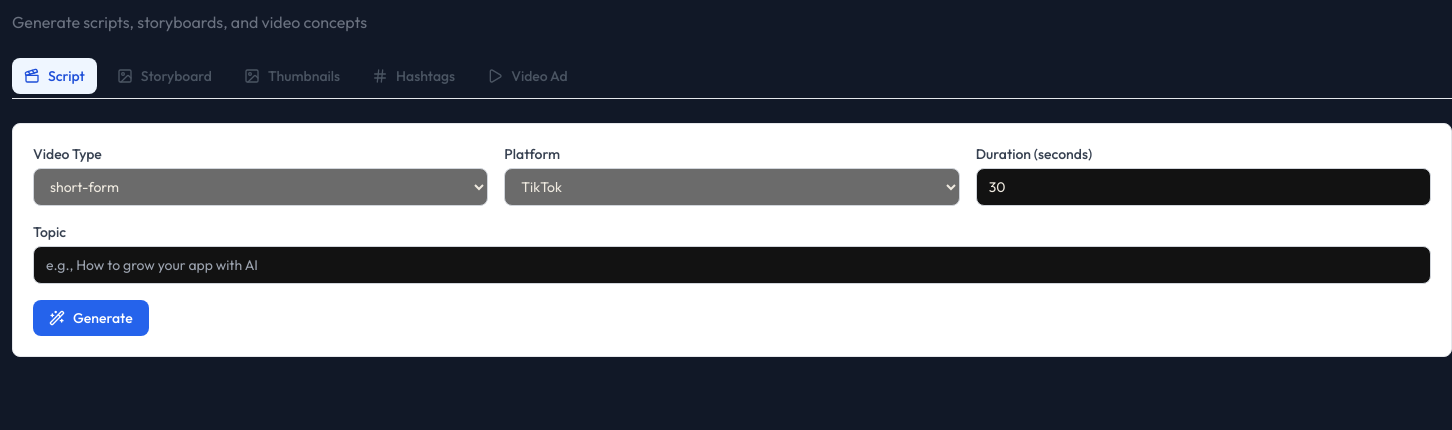
it: visible studio failures › video quota errors provide the Billing link without clearing the topic
The image size is (1452, 430).
In the field with placeholder "e.g., How to grow your app with AI": (732, 265) [33,246,1431,284], type "Keep my video topic"
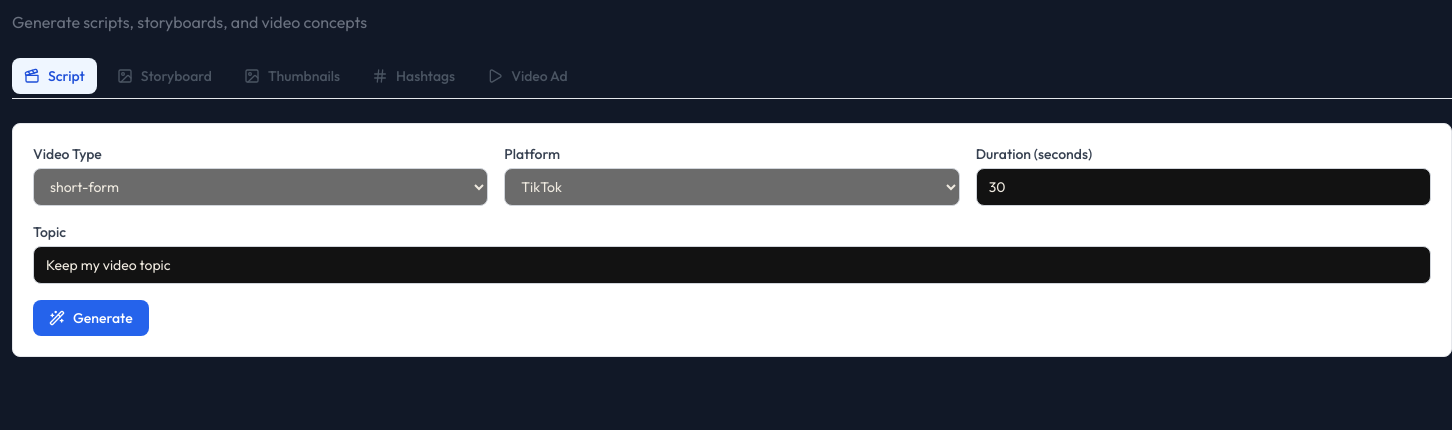
Click the button "Generate": click(91, 318) [33,300,149,336]
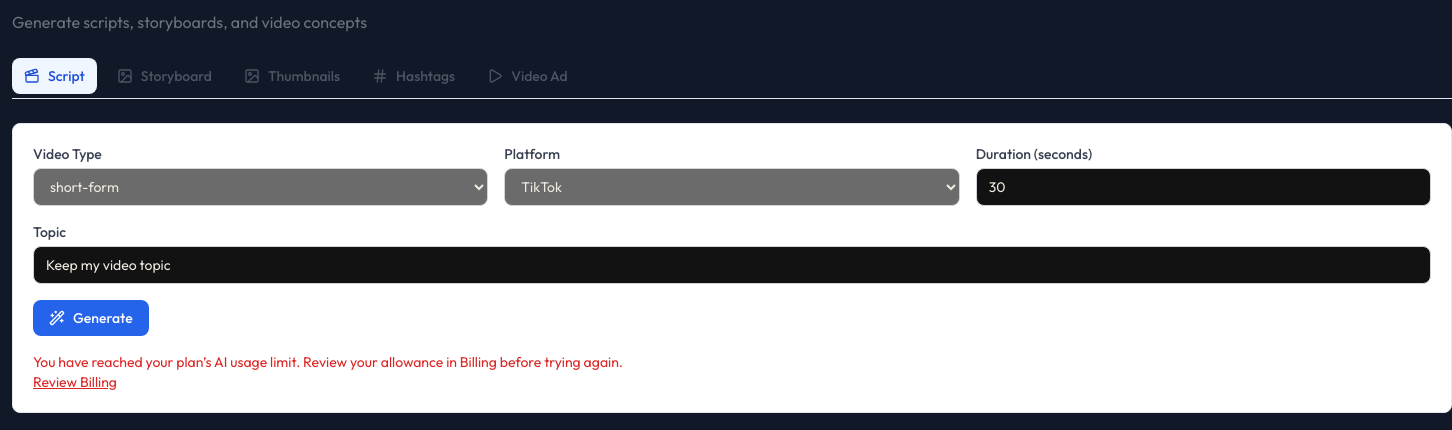
Check: the message shows "usage limit", box [33,353,623,371]
